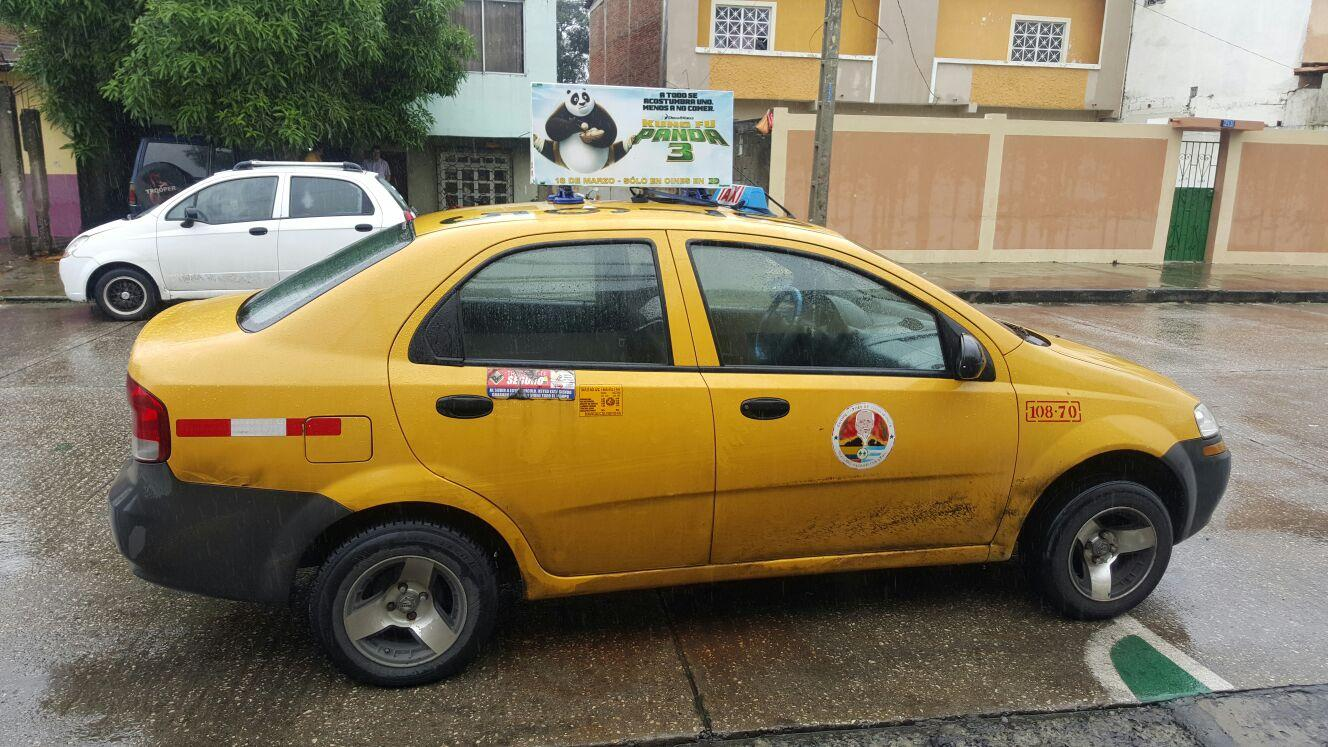taxi: (111, 182, 1275, 675)
